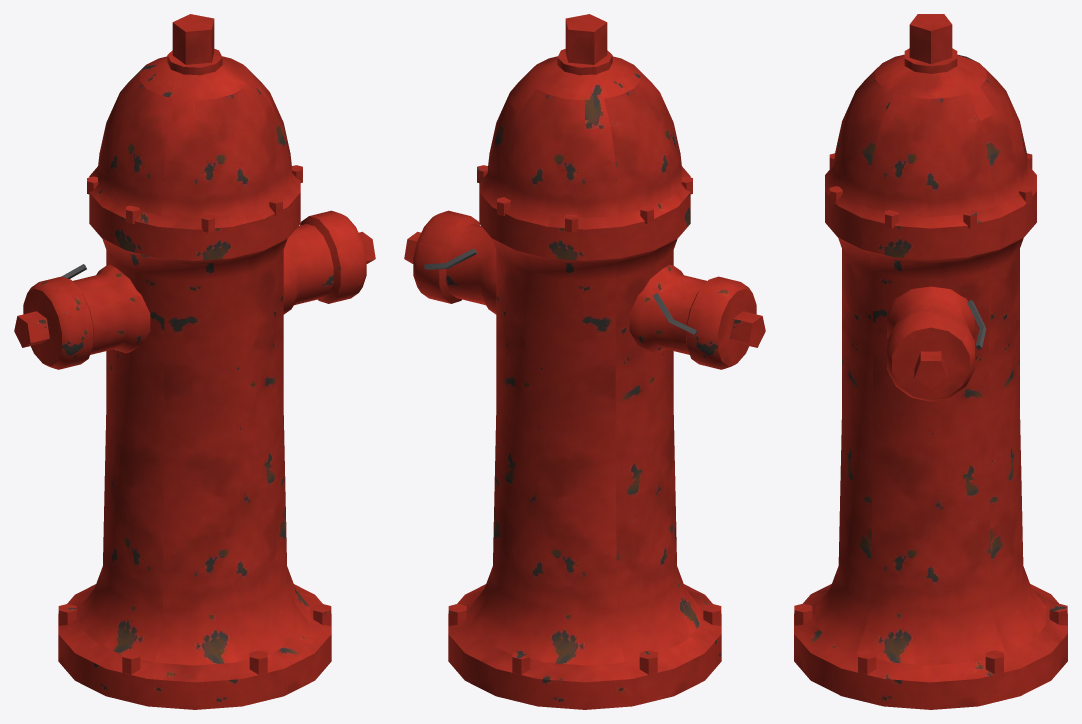
Rendered from hydrant.glb.
3 views of the same model, side by side, from view 1: azimuth 30°, elevation 25°; view 2: azimuth 150°, elevation 25°; view 3: azimuth 270°, elevation 25° (orthographic).
Parts seen in each view (by area): view 1: hydrant; view 2: hydrant; view 3: hydrant.
Boxes of the visible parts, box(x1,y1,x2,y2) form: hydrant: box(14, 14, 375, 709); hydrant: box(404, 14, 765, 709); hydrant: box(794, 14, 1067, 709).
Bounding box in the file's own units: 0.46 × 0.8 × 0.3152.
Materials: 2 (1 with a texture image).
